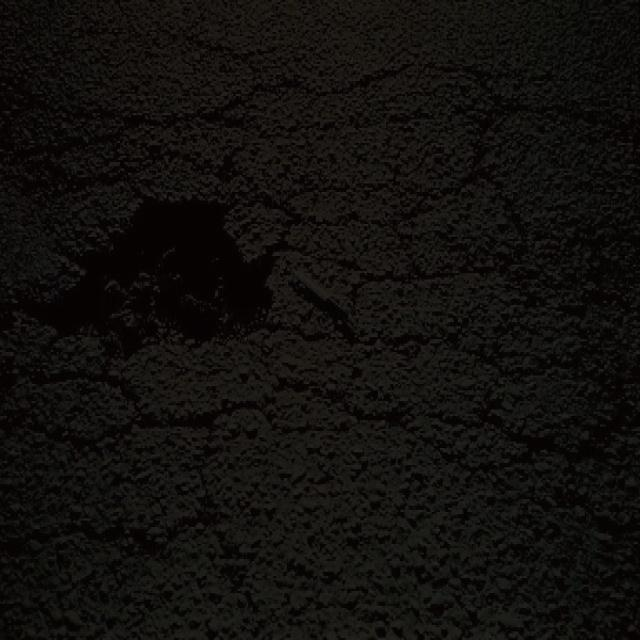Pothole: (25, 181, 284, 364)
